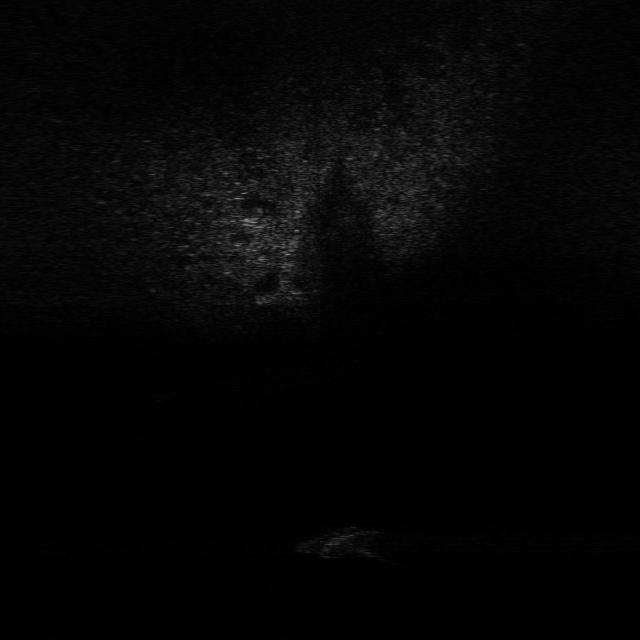circle cage: (314, 520, 382, 566)
